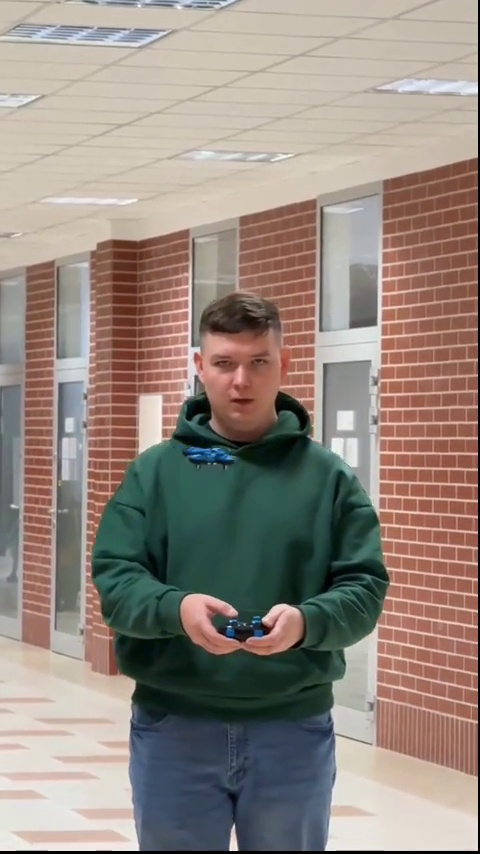drone: (183, 444, 239, 470)
no vest: (100, 289, 386, 836)
